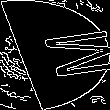M_W: (8, 27, 102, 83)
